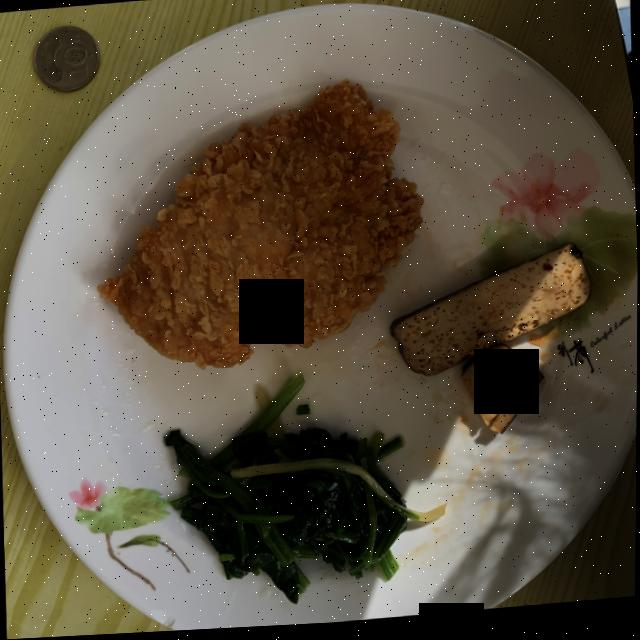coin: (33, 25, 99, 91)
firm tofu: (391, 248, 591, 437)
fried chicken cutlet: (98, 84, 422, 369)
mustard greens: (165, 374, 445, 605)
